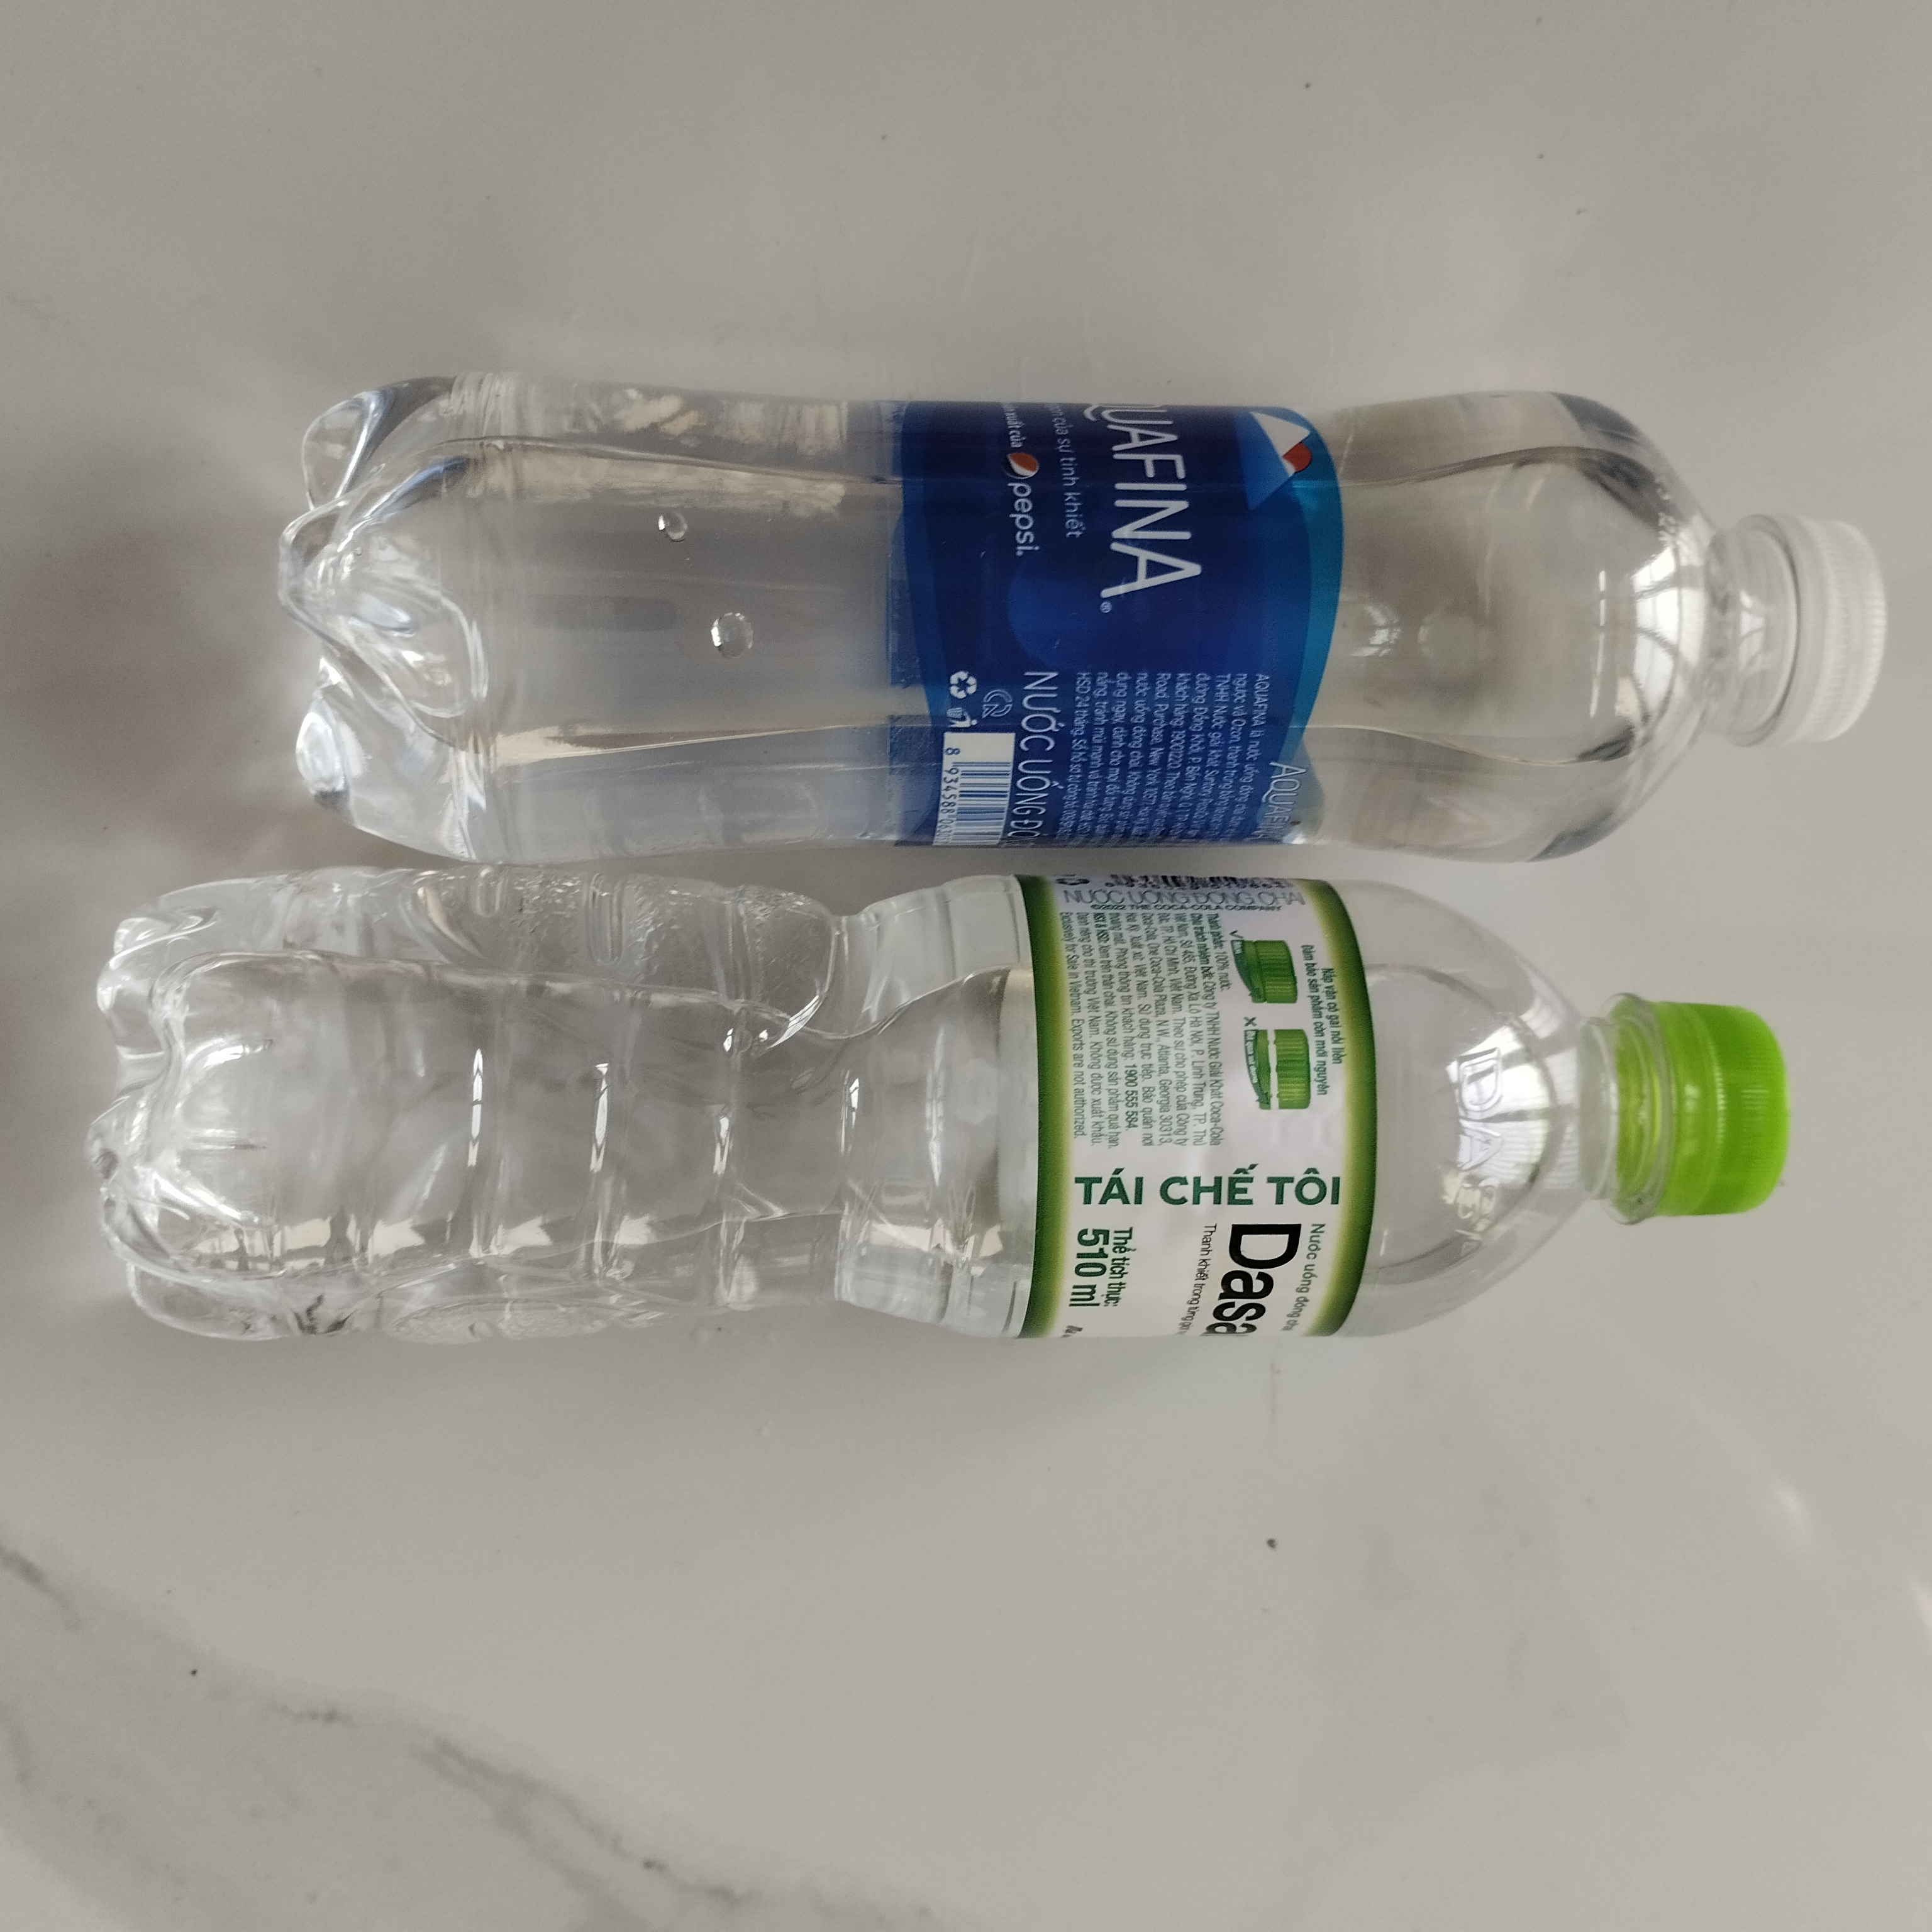Aquafina: (262, 370, 1913, 876)
Dasani: (92, 862, 1792, 1348)
